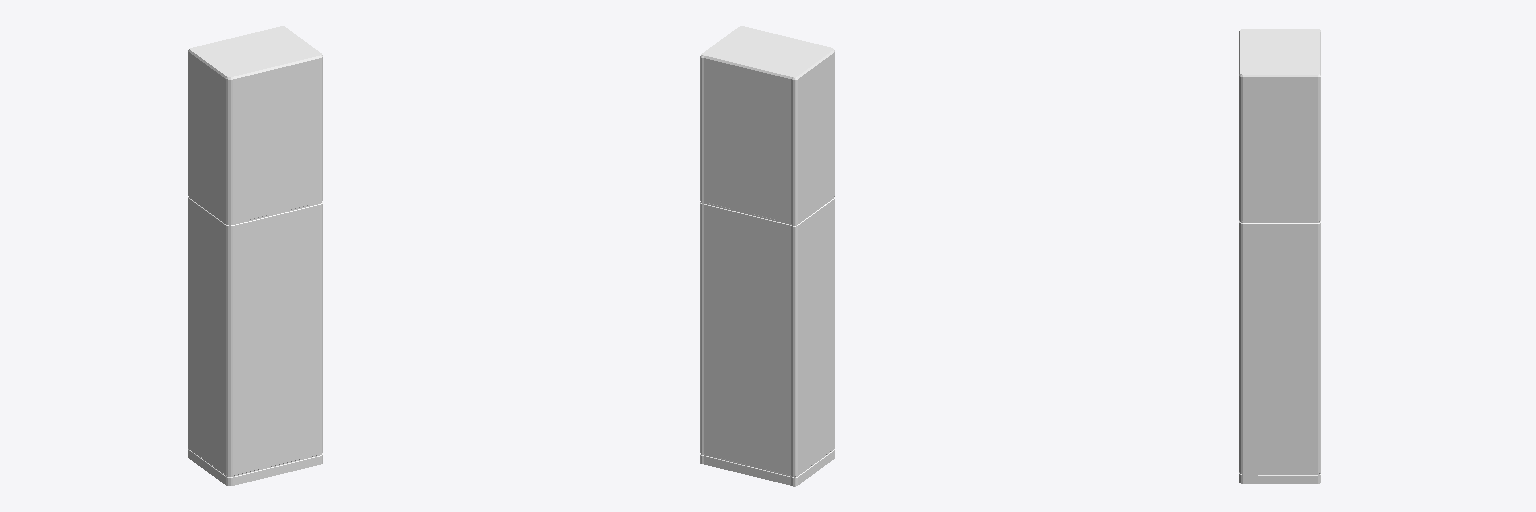
3 views of the same model, side by side, from view 1: azimuth 30°, elevation 25°; view 2: azimuth 150°, elevation 25°; view 3: azimuth 270°, elevation 25° (orthographic).
Parts seen in each view (by area): view 1: aws_AirconditionerB_01_visualMesh; view 2: aws_AirconditionerB_01_visualMesh; view 3: aws_AirconditionerB_01_visualMesh.
Boxes of the visible parts, x1=… form: aws_AirconditionerB_01_visualMesh: x1=188, y1=26, x2=322, y2=485; aws_AirconditionerB_01_visualMesh: x1=700, y1=26, x2=834, y2=486; aws_AirconditionerB_01_visualMesh: x1=1239, y1=29, x2=1320, y2=483.
Size of the model in its own units: 0.5 by 2.01 by 0.368.